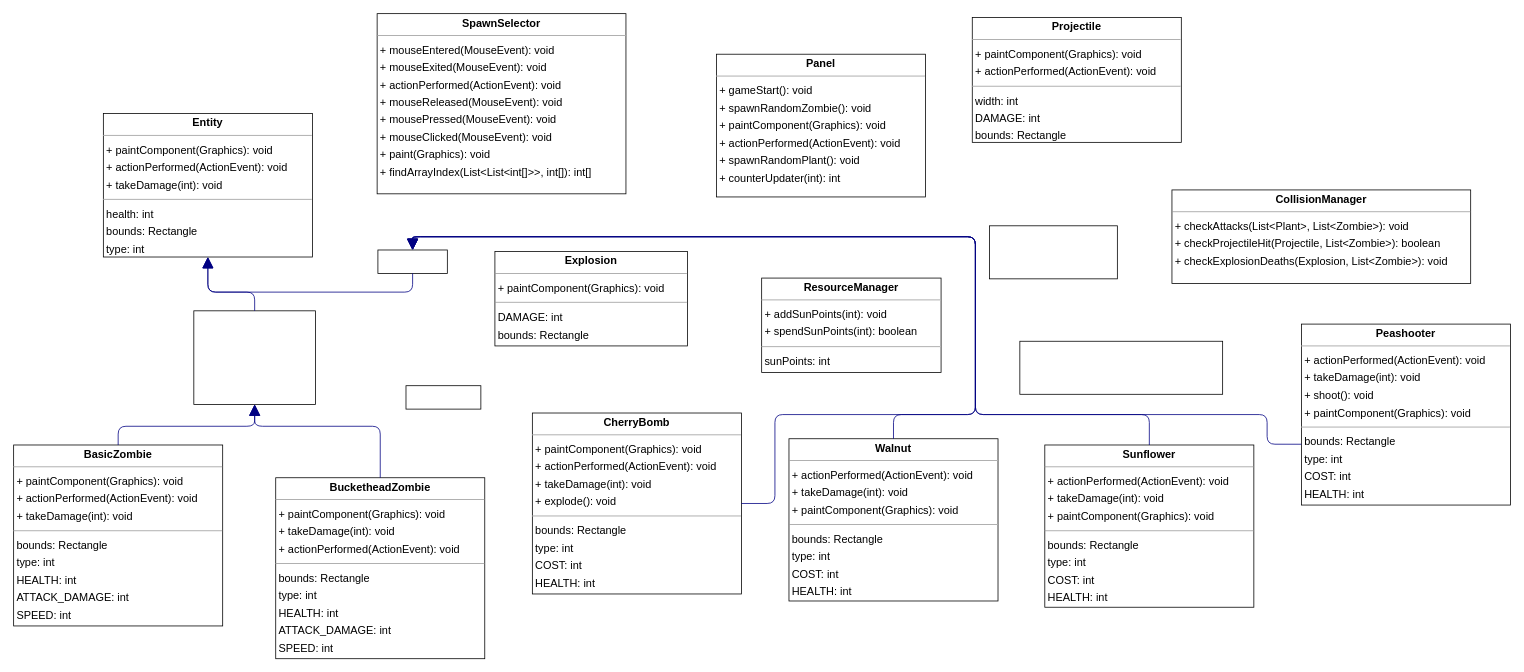
Image size: 1524x672. Some labels were removed from this diagram. Here are the shapes that lost their labels. From the top down, the centre of each, then its label:
(x=412, y=261): Plant
(x=1053, y=252): Main + main(String[]): void
(x=254, y=357): Zombie attackDamage: int type: int speed: int
(x=1121, y=367): SettingsChange + stateChanged(ChangeEvent): void
(x=443, y=397): Board
